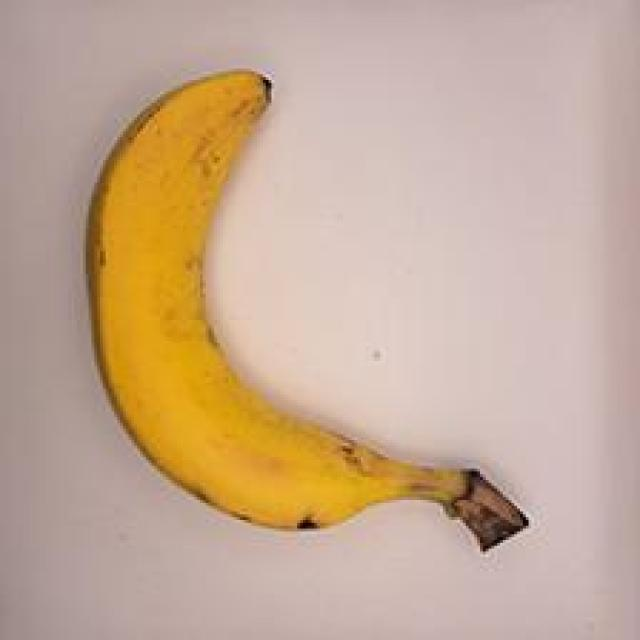ripe: (56, 61, 544, 582)
